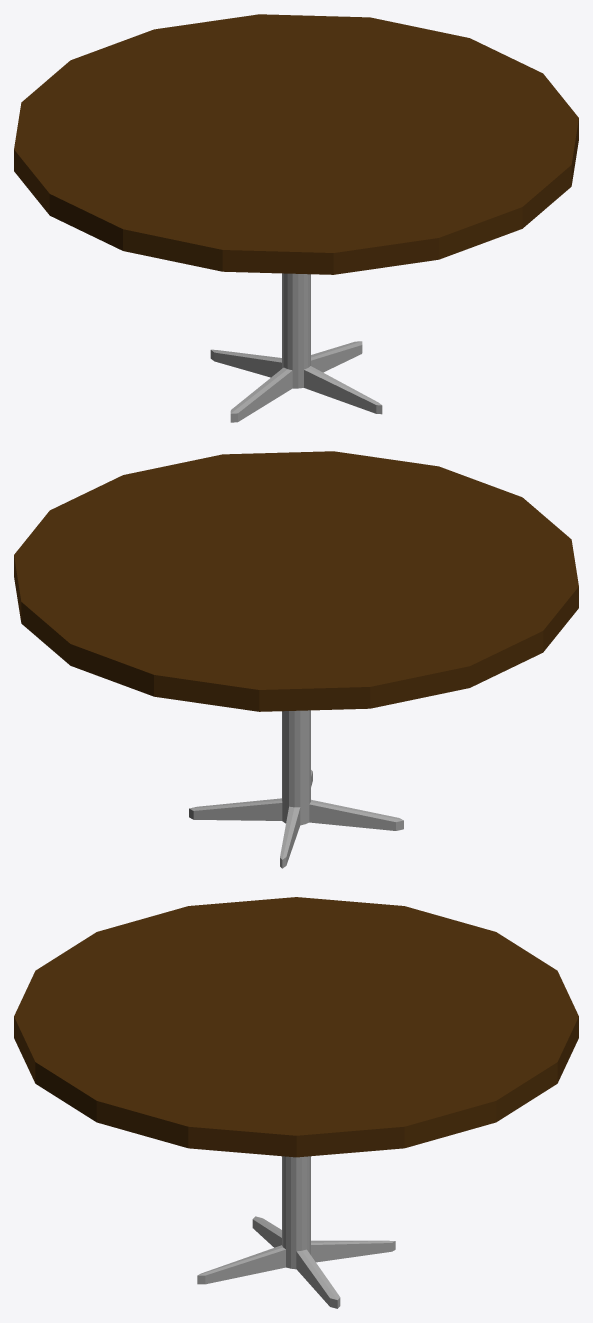
File: TableB.fbx
The picture shows the model from 3 angles, top to bottom: view 1: azimuth 30°, elevation 25°; view 2: azimuth 150°, elevation 25°; view 3: azimuth 270°, elevation 25°; orthographic projection.
Visible parts, largest first — view 1: CircularTable; view 2: CircularTable; view 3: CircularTable.
Boxes of the visible parts, box(x1,y1,x2,y2) form: CircularTable: box(14, 14, 578, 422); CircularTable: box(14, 451, 578, 868); CircularTable: box(14, 897, 578, 1308).
Bounding box in the file's own units: 155 × 75.7 × 155.
